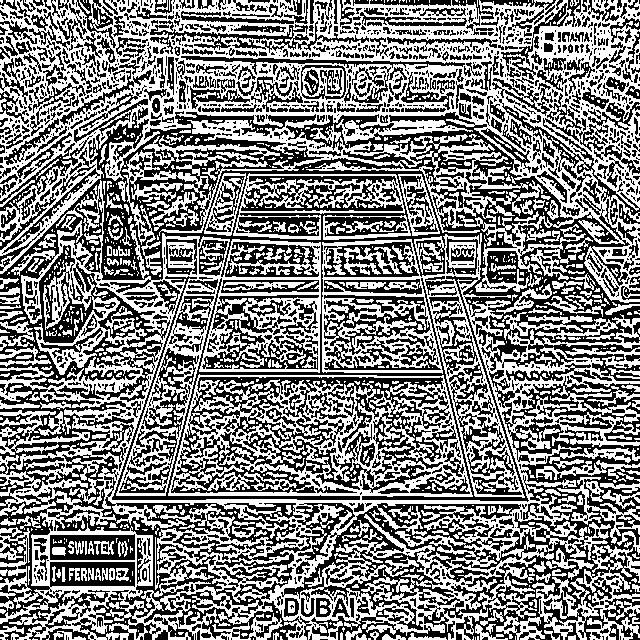left side: (113, 171, 248, 498), (396, 172, 528, 499)
player: (331, 396, 379, 514), (330, 98, 348, 158)
